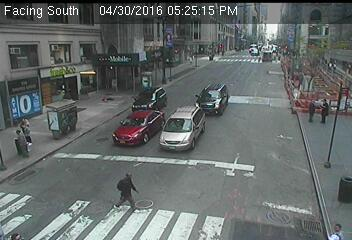neg: (50, 83, 74, 115), (113, 30, 136, 61), (40, 29, 58, 54), (96, 93, 113, 115), (296, 34, 312, 56), (20, 88, 35, 108), (94, 39, 109, 59), (245, 39, 258, 57), (184, 47, 197, 63), (272, 35, 282, 49), (196, 28, 206, 41), (226, 34, 235, 46)
pos: (113, 171, 142, 209), (8, 129, 30, 159), (302, 98, 322, 124), (316, 98, 336, 123), (220, 48, 227, 58)
